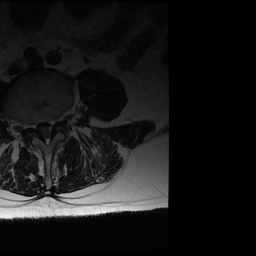CCS_normal: (43, 118, 49, 150)
LFS_stenosis: (55, 110, 61, 130)
LLS_severe_stenosis: (48, 115, 55, 137)
RFS_stenosis: (27, 117, 35, 137)
RLS_stenosis: (35, 117, 42, 138)
